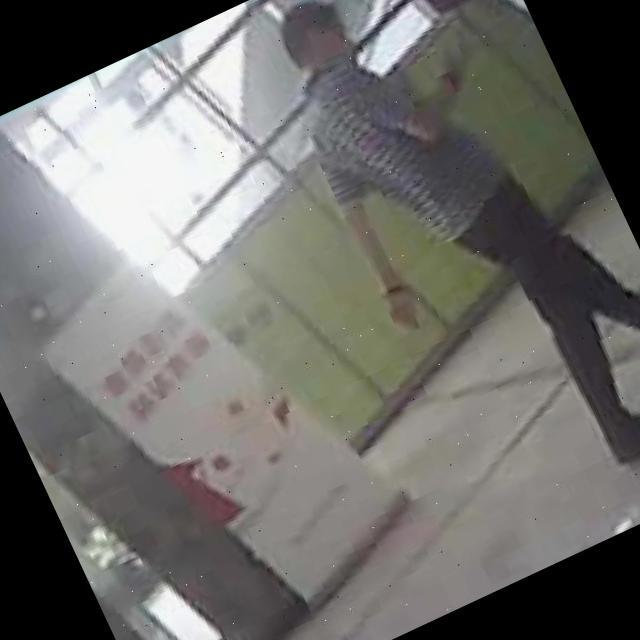person: (251, 0, 640, 529)
